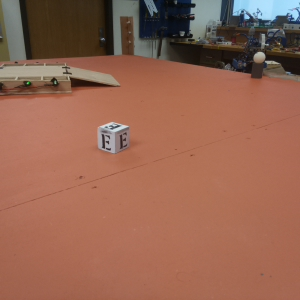blockE: (98, 122, 131, 155)
corner: (119, 16, 137, 57)
obstacle: (251, 52, 266, 80)
side: (1, 76, 74, 94)
slope: (69, 65, 121, 88)
